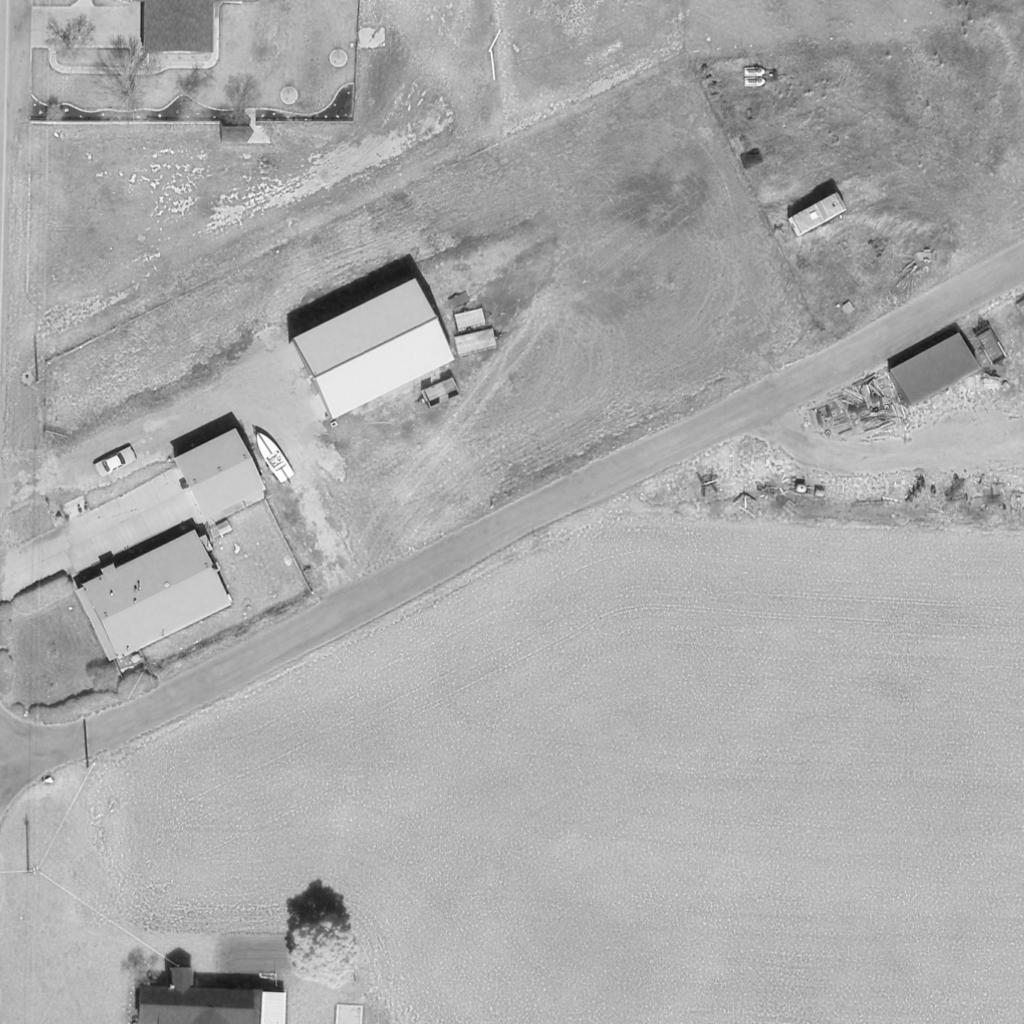vehicle: (782, 190, 848, 234), (249, 426, 295, 488), (90, 446, 140, 480)
